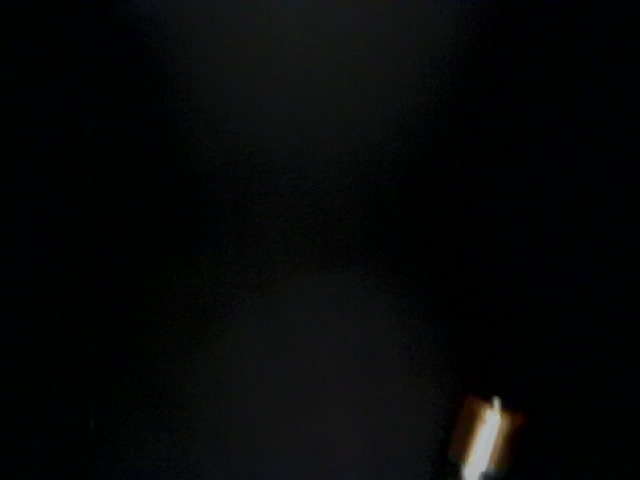QTLJ: (40, 359, 197, 480)
